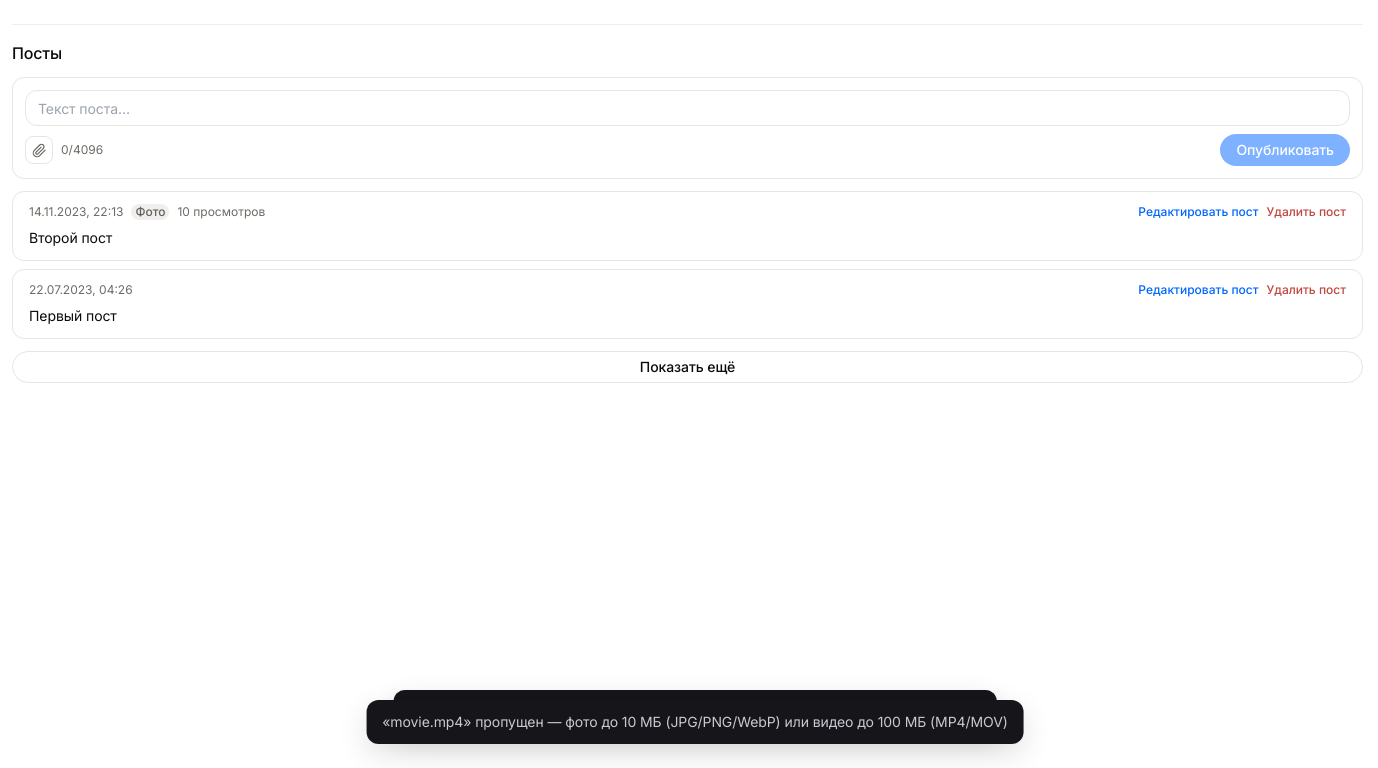
Test: the edit box shows the same char count the composer does
Expected: the text "Второй пост" is shown, 29,229 -> 112,246
Click the button labelled "Редактировать пост" in the row of "10 просмотров" at (1198, 212), box 1138,204 -> 1259,220
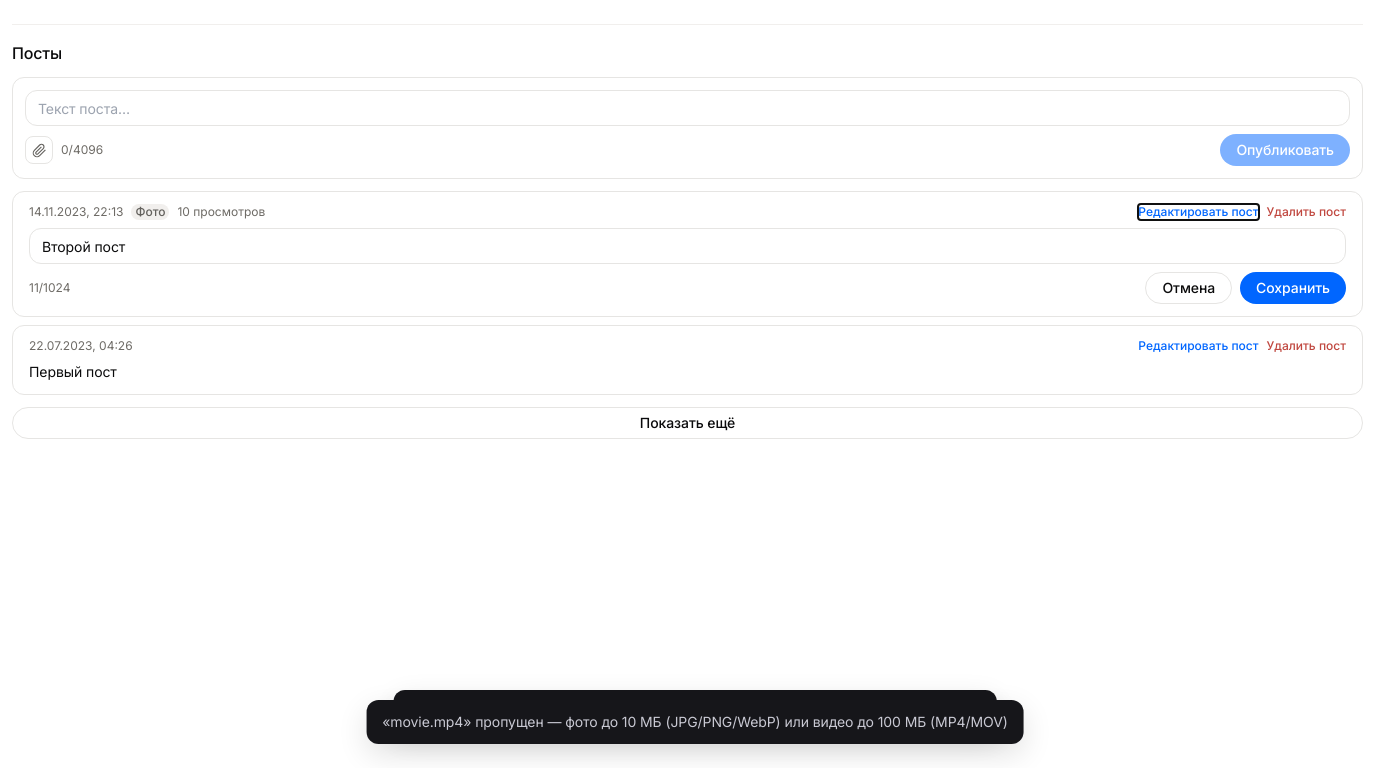
Expected: the text "11/1024" is shown, 29,280 -> 70,296
Text-only post → the full 4096, same as the composer's own readout.
Click the button "Отмена" at (1189, 288), box 1145,272 -> 1232,304
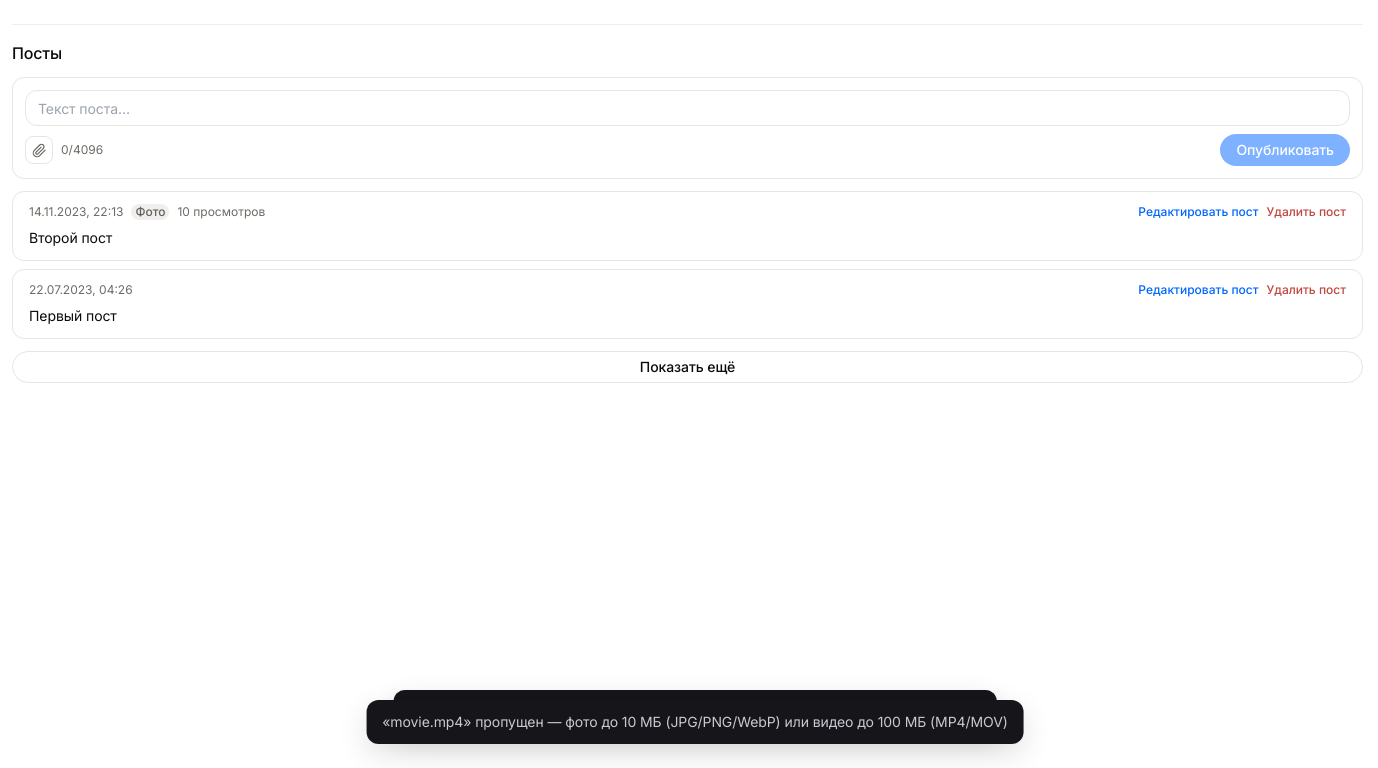
Click the button labelled "Редактировать пост" in the row of "22.07.2023, 04:26" at (1198, 290), box 1138,282 -> 1259,298
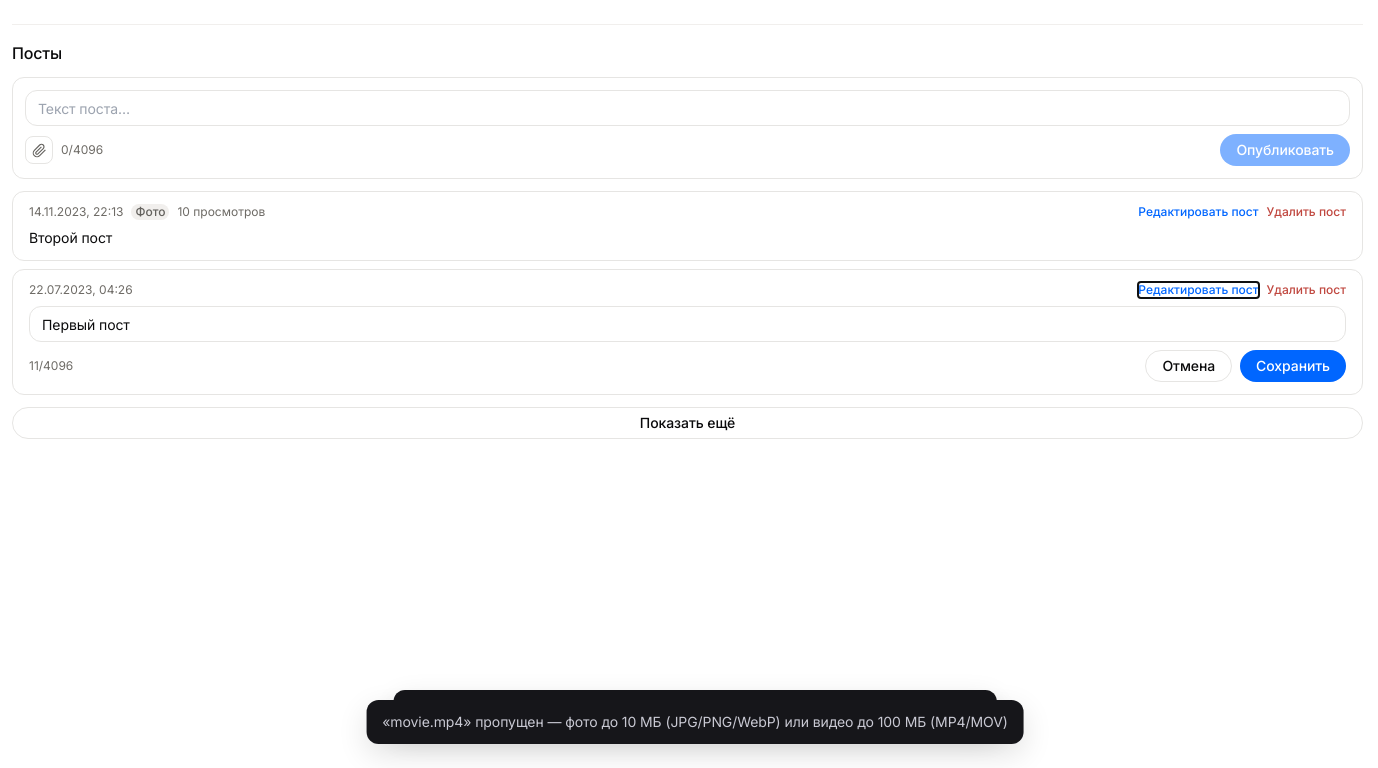
Expected: the text "11/4096" is shown, 29,358 -> 73,374
